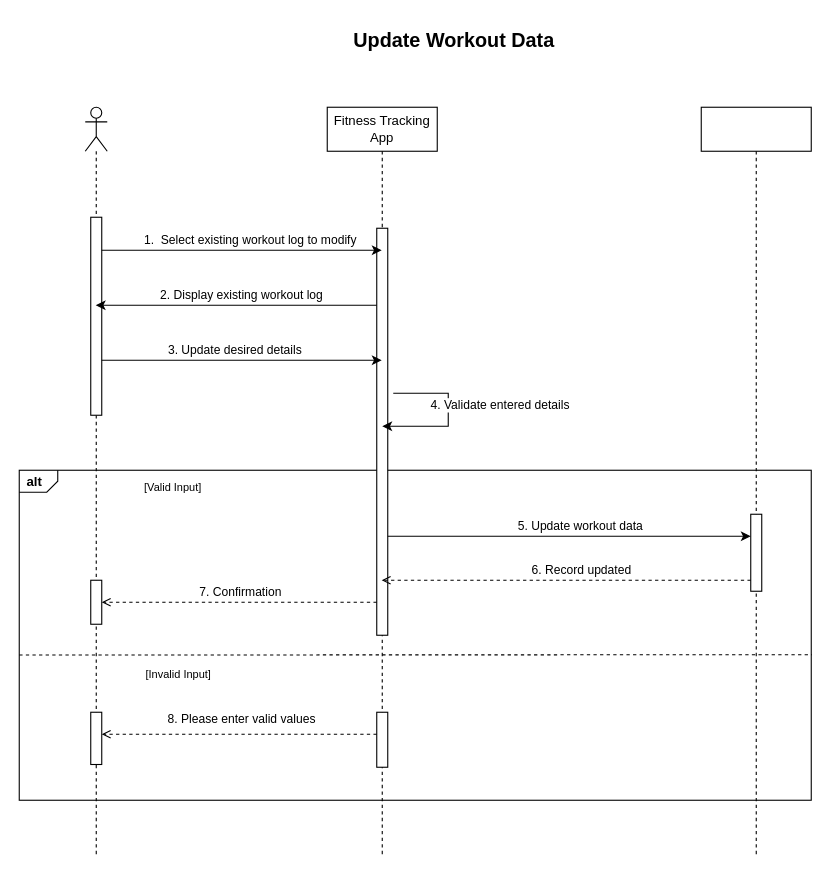
The diagram is 833 pixels wide and 875 high, and some of its shapes have lost their labels. The box of each missing label's shape, as (x1, y1, x2, y2) in pixels:
Database: (700, 106, 811, 855)
User: (84, 106, 107, 855)
